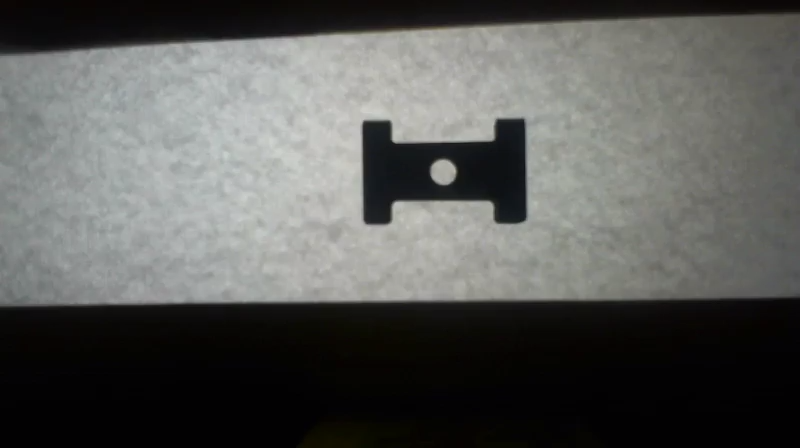O002: (356, 117, 529, 227)
